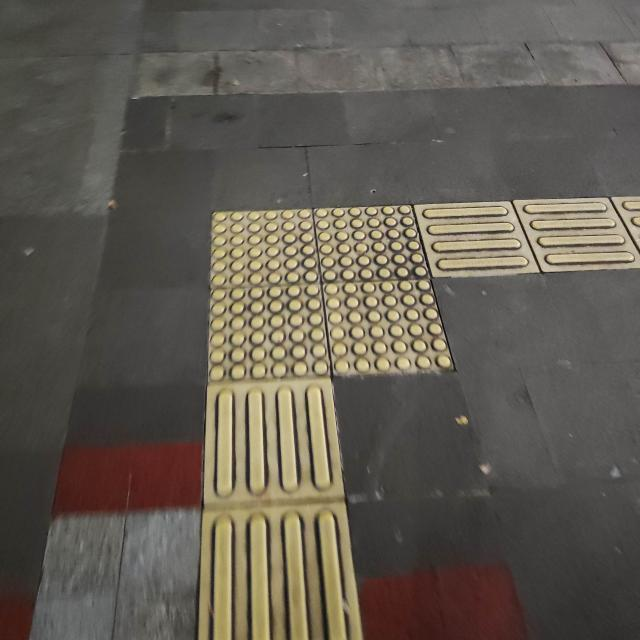kanan: (162, 162, 635, 410)
